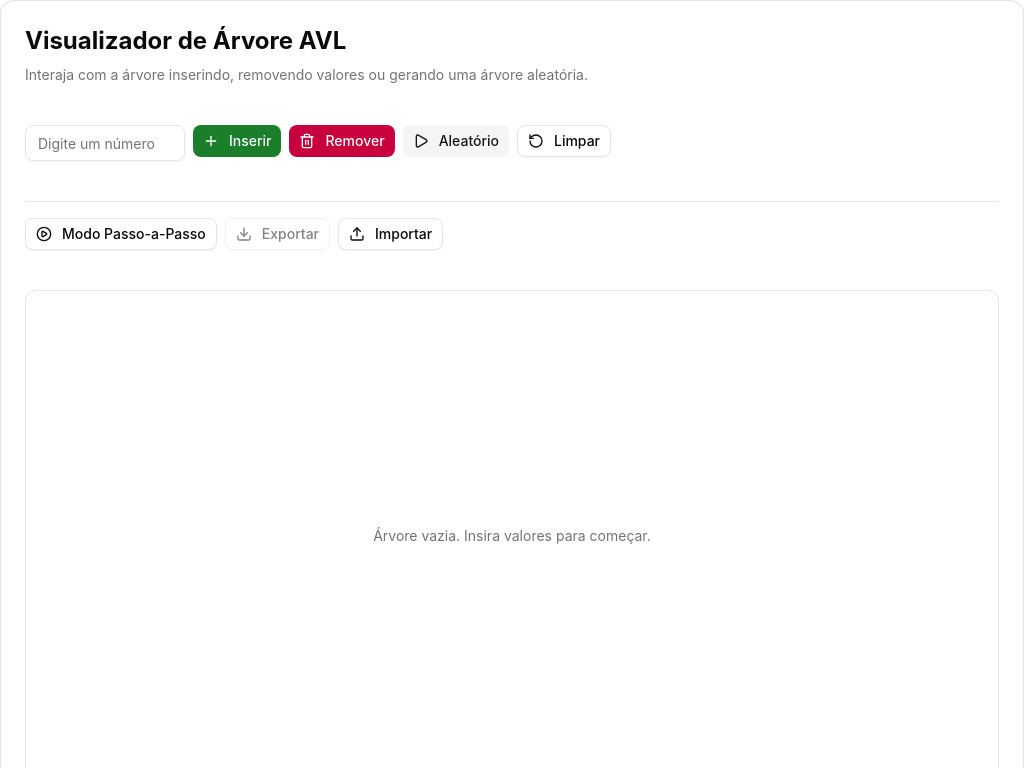
it: TreeVisualizer › displays history after operations
Click the button "Aleatório": point(456, 141) x1=403 y1=125 x2=509 y2=157
(page scrolled)
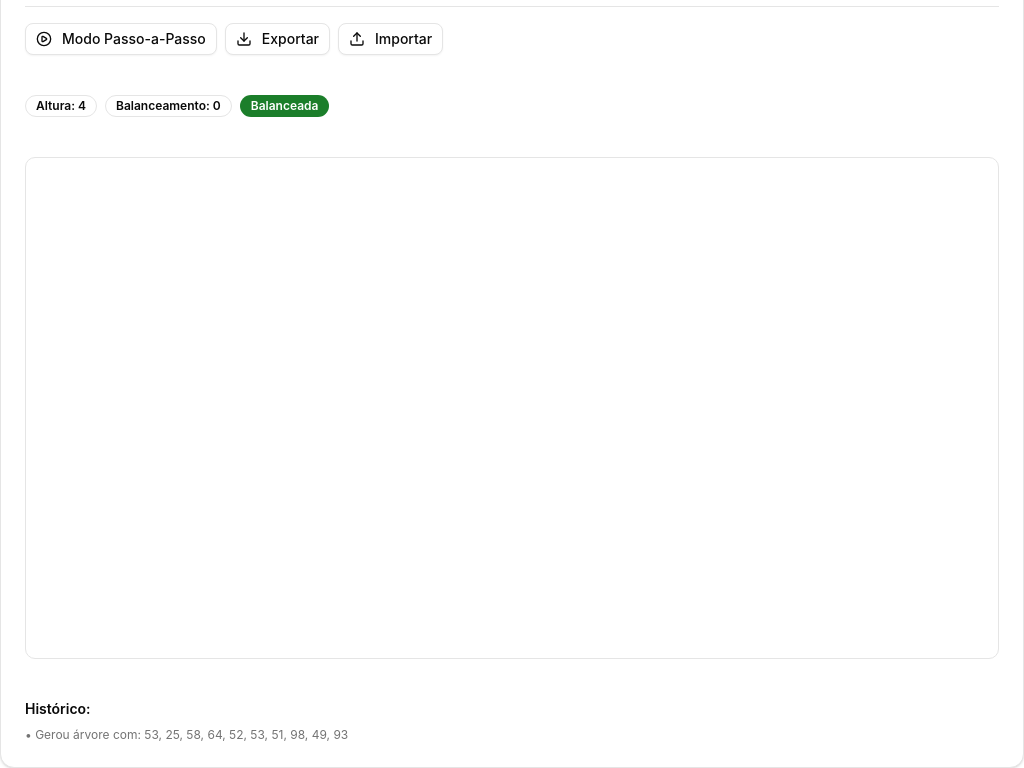
Expected: the heading "Histórico:" is shown, x1=25 y1=700 x2=91 y2=717
Expected: the text "• Gerou árvore com: 53, 25, 58, 64, 52, 53, 51, 98, 49, 93" is shown, x1=25 y1=727 x2=348 y2=742
